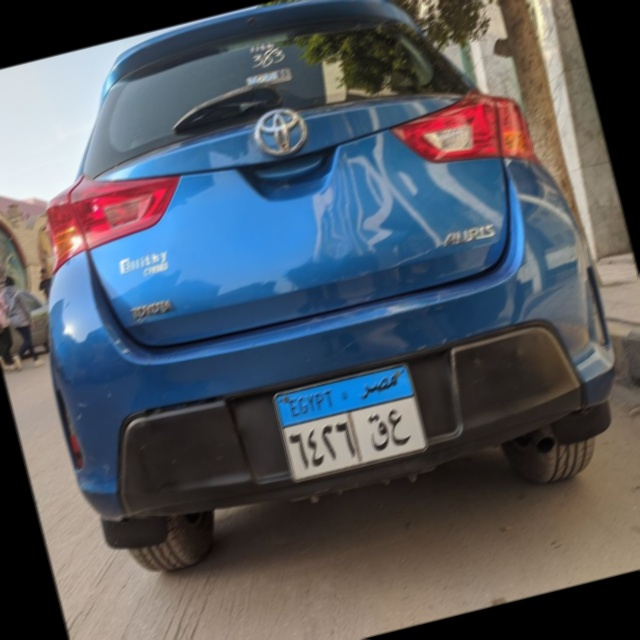License Plate: (270, 359, 432, 488)
